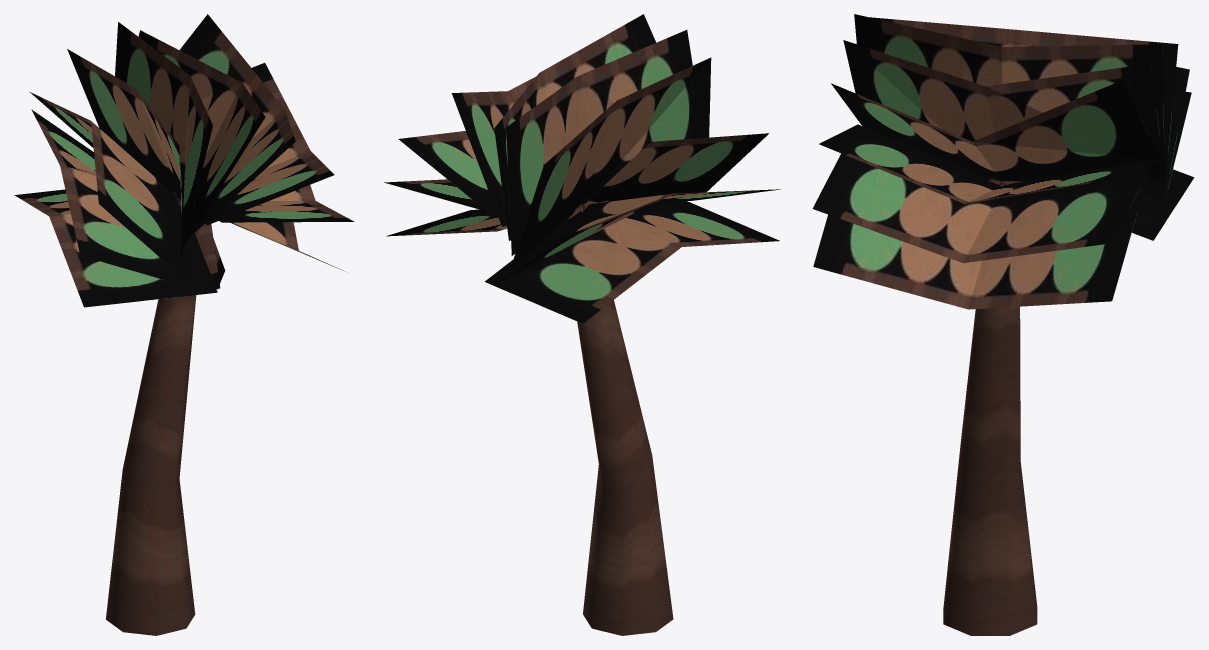
The model's file is Canyon_Tree_1.glb.
3 renders of one model, left to right at view 1: azimuth 30°, elevation 25°; view 2: azimuth 150°, elevation 25°; view 3: azimuth 270°, elevation 25°, orthographic. The views are drawn at different scales.
Parts seen in each view (by area): view 1: Canyon_Tree_1_1, Canyon_Tree_1_0; view 2: Canyon_Tree_1_1, Canyon_Tree_1_0; view 3: Canyon_Tree_1_1, Canyon_Tree_1_0.
Boxes of the visible parts, x1,y1,x2,y2 form: Canyon_Tree_1_1: (14, 14, 354, 307); Canyon_Tree_1_0: (106, 295, 196, 635); Canyon_Tree_1_1: (384, 14, 780, 323); Canyon_Tree_1_0: (577, 300, 673, 635); Canyon_Tree_1_1: (812, 14, 1194, 309); Canyon_Tree_1_0: (943, 306, 1037, 635).
Size of the model in its own units: 1.83 by 3.12 by 1.79.
Materials: 2 (2 with a texture image).
